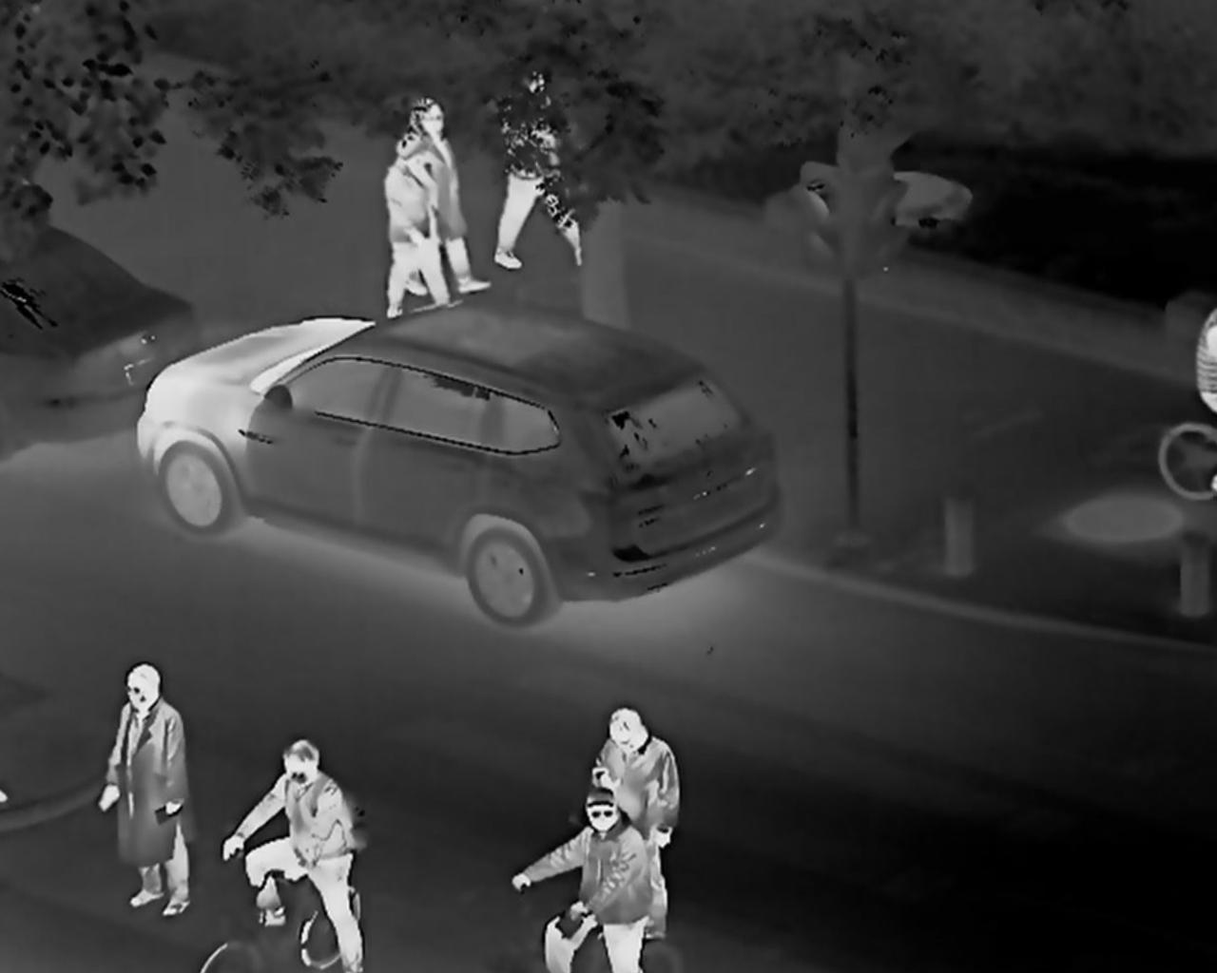person: (98, 612, 210, 883), (274, 717, 412, 931), (489, 78, 601, 309), (557, 806, 701, 973), (391, 93, 475, 295), (605, 676, 673, 857)
